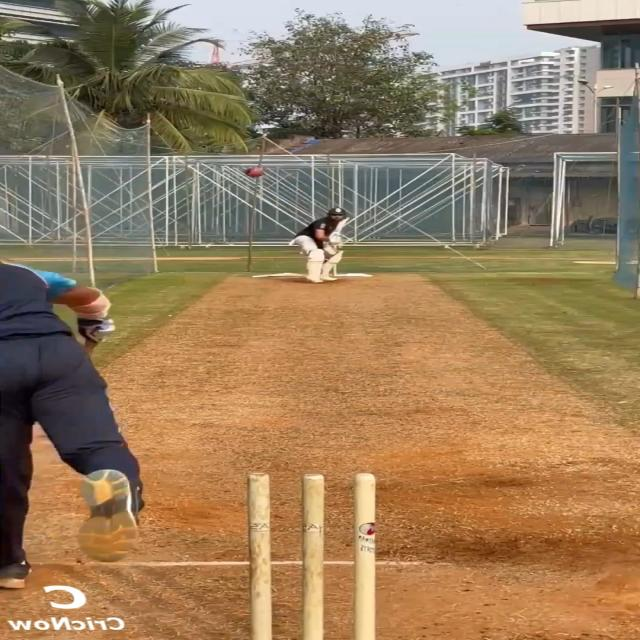ball: (246, 166, 264, 178)
stump: (248, 472, 378, 640)
